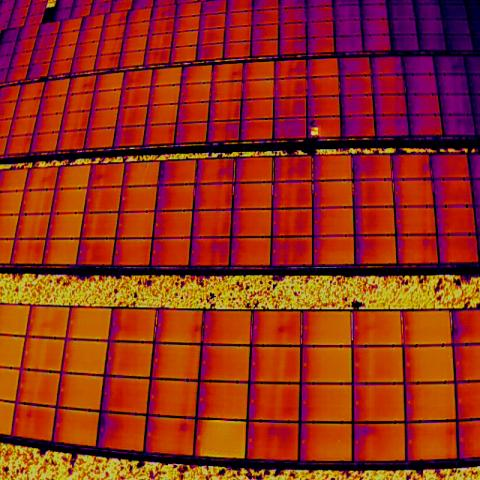fault: (308, 125, 321, 137)
